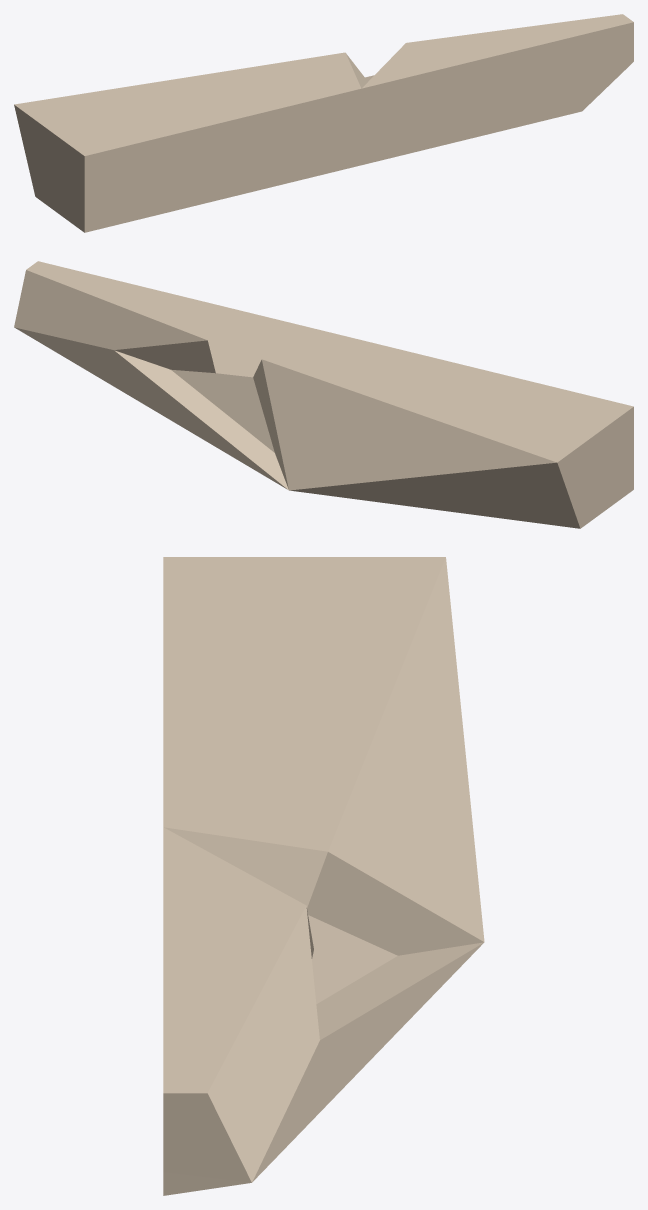
Rendered from Crumble_Ceiling_002.fbx.
The picture shows the model from 3 angles, top to bottom: view 1: azimuth 30°, elevation 25°; view 2: azimuth 150°, elevation 25°; view 3: azimuth 270°, elevation 25°; orthographic projection. The views are drawn at different scales.
Visible parts, largest first — view 1: Crumble_Ceiling_002; view 2: Crumble_Ceiling_002; view 3: Crumble_Ceiling_002.
Part boxes in pixels (left/top/right/bottom): Crumble_Ceiling_002: left=14, top=14, right=633, bottom=232; Crumble_Ceiling_002: left=14, top=261, right=633, bottom=528; Crumble_Ceiling_002: left=163, top=557, right=484, bottom=1195.
Size of the model in its own units: 3 by 0.4 by 0.7594.
